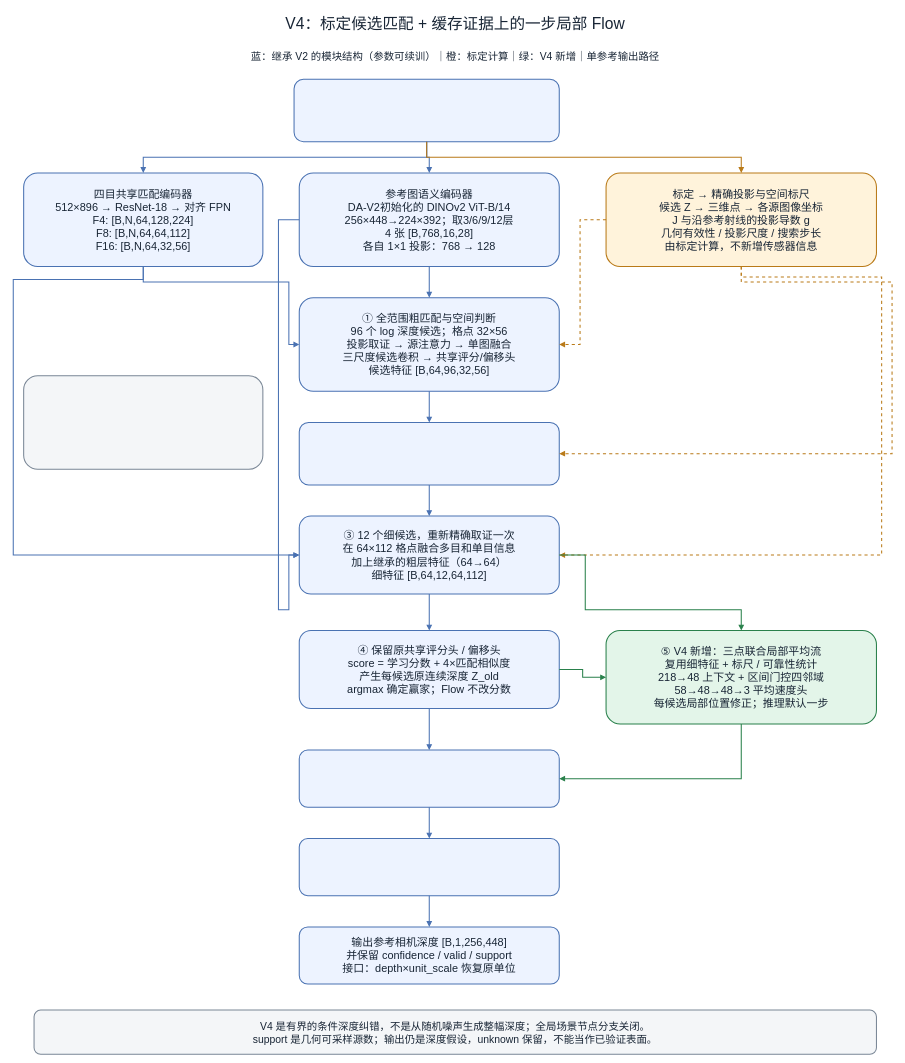
The diagram is 905 pixels wide and 1063 high, and some of its shapes have lost their labels. The centre of each missing label's shape, as x and y in pixels:
② 先传递分布，再挑 4 个表面峰 同深度刻度的四邻格双线性传递 标尺控制每峰左 / 中 / 右三个采样: (x=429, y=453)
⑥ 按原赢家取修正后的连续深度 [B,1,64,112]；不重新选表面 Flow 不再投影、不再读取图像: (x=429, y=778)
⑦ 原凸组合上采样 ×4 赢家特征 → 每子像素 9 邻域权重 64→64→144；邻域深度加权: (x=429, y=867)
同步 RGB + K + T_cam_from_rig 有效相机 / 像素掩码；不输入 GT 示例 B 批次，N=4，参考为上相机: (x=426, y=110)
编码结果在粗、细阶段复用 四层单图特征不先压成唯一深度 每个候选按内容读取四层图像信息 多参考推理可只算一次匹配 FPN 每个参考仍独立运行 ViT 与解码: (x=143, y=422)
